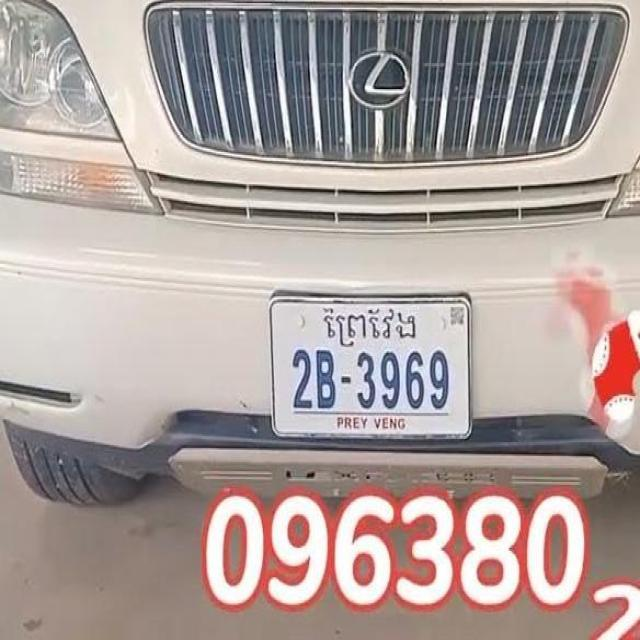Prey_Veng: (321, 301, 416, 347)
